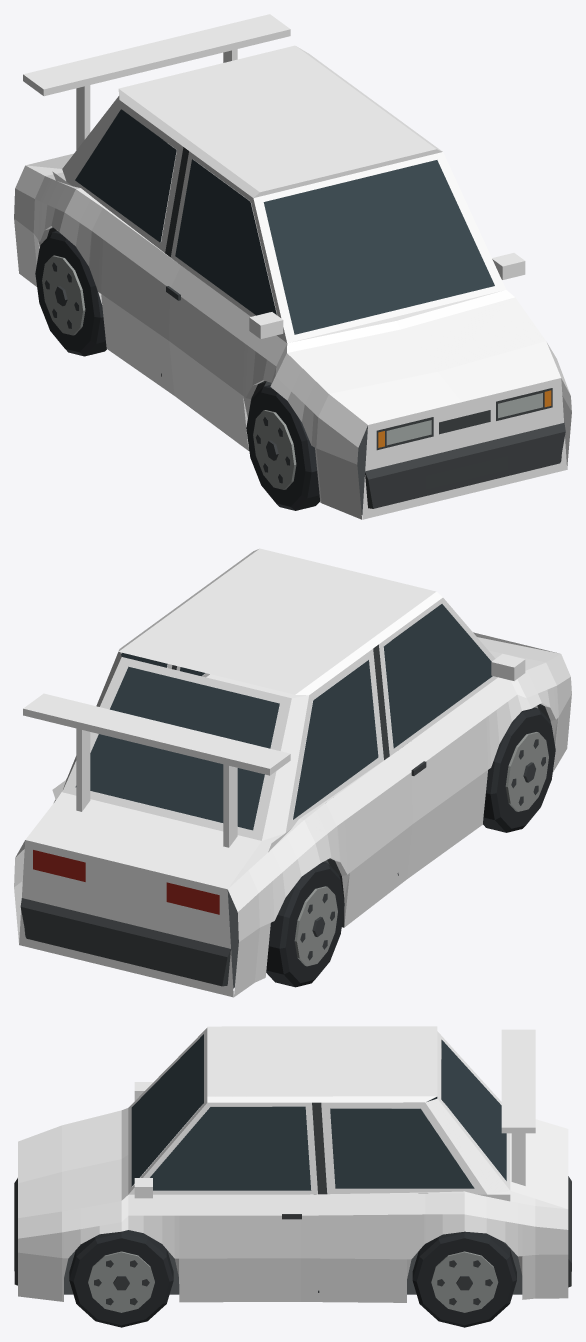
Rendered from kanaya_ruri_corrida_ii.glb.
3 renders of one model, top to bottom at view 1: azimuth 30°, elevation 25°; view 2: azimuth 150°, elevation 25°; view 3: azimuth 270°, elevation 25°, orthographic. The views are drawn at different scales.
Parts seen in each view (by area): view 1: kanaya_ruri_corrida_ii; view 2: kanaya_ruri_corrida_ii; view 3: kanaya_ruri_corrida_ii.
Boxes of the visible parts, x1,y1,x2,y2 form: kanaya_ruri_corrida_ii: [14, 14, 571, 519]; kanaya_ruri_corrida_ii: [14, 548, 571, 997]; kanaya_ruri_corrida_ii: [14, 1026, 571, 1327].
Bounding box in the file's own units: 1.62 × 1.57 × 3.64.
Materials: 8 (1 with a texture image).
